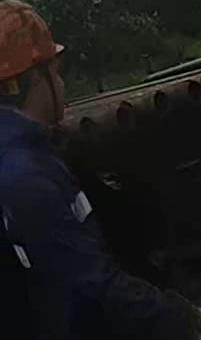helmet: (0, 0, 66, 82)
vest: (0, 114, 135, 340)
